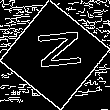N_W: (28, 32, 82, 78)
